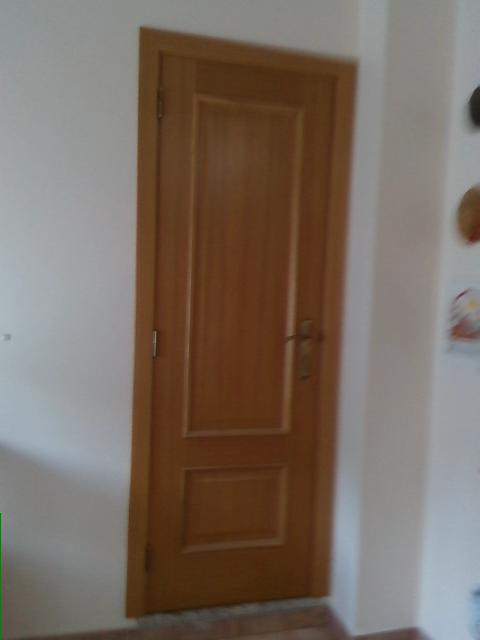door: (150, 51, 336, 612)
